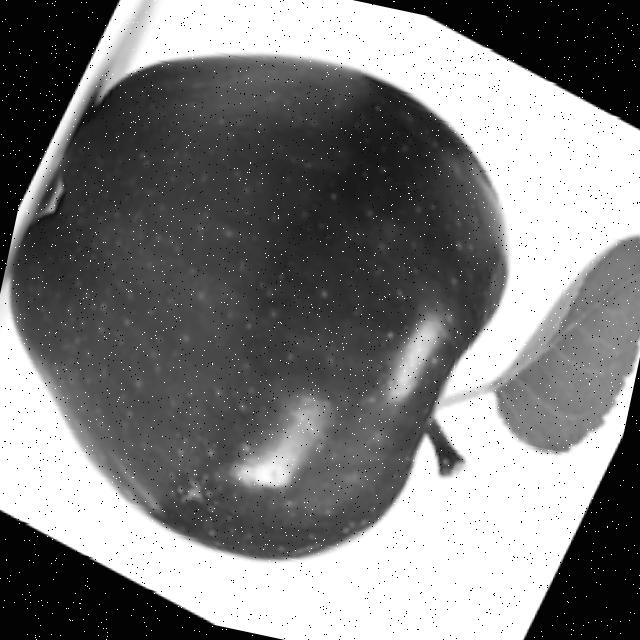Ripe: (0, 0, 548, 606)
